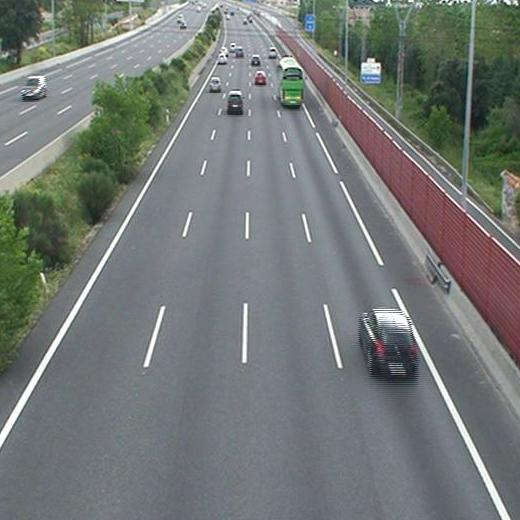bus: (279, 58, 303, 105)
car: (360, 309, 418, 375), (228, 92, 244, 113), (254, 72, 267, 84), (209, 77, 220, 90), (268, 48, 279, 58), (217, 54, 226, 62), (235, 48, 243, 56), (251, 56, 258, 64)
